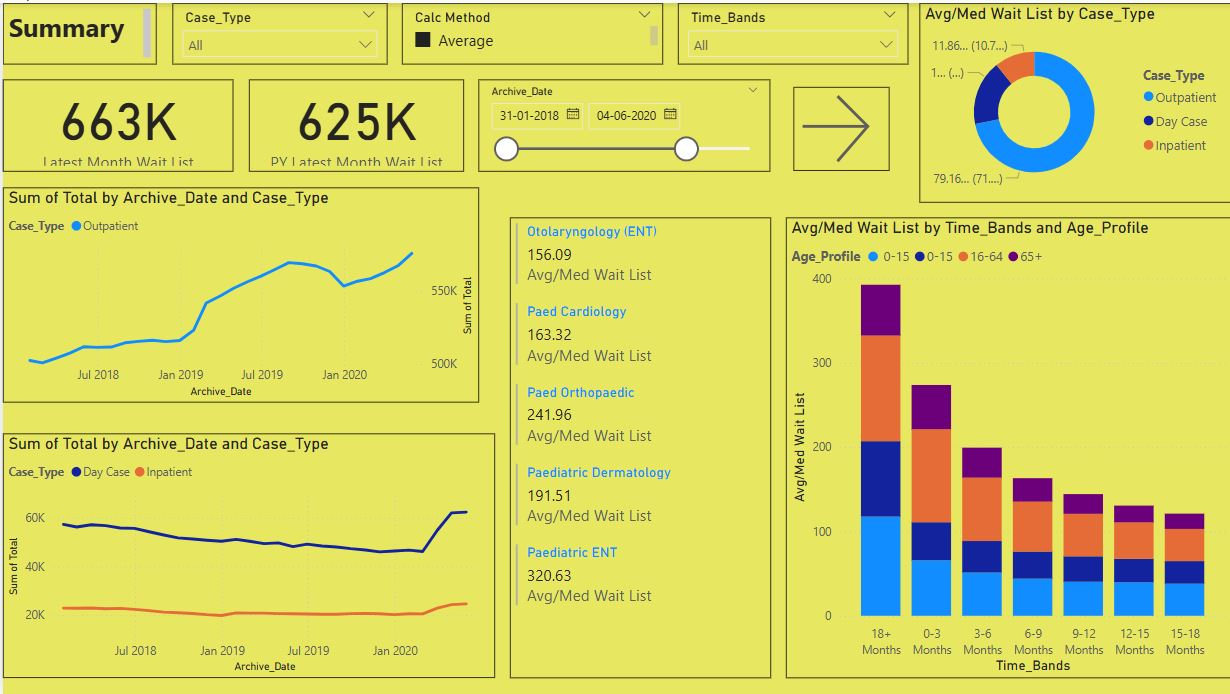

The dashboard page shown, as its layout file describes it:
{"tool":"powerbi","page":{"name":"Summary","canvas":[1280,720],"ordinal":0},"visuals":[{"type":"card","fields":{"Values":["All_Data.Latest Month Wait List"]},"box":[0,80,240,96],"z":0},{"type":"card","fields":{"Values":["All_Data.PY Latest Month Wait List"]},"box":[256,80,224,96],"z":1000},{"type":"slicer","fields":{"Values":["Table.Calc Method"]},"box":[416,0,272,64],"z":2000},{"type":"donutChart","fields":{"Category":["All_Data.Case_Type"],"Y":["All_Data.Avg/Med Wait List"]},"box":[955,0,325.1,207.9],"z":3000},{"type":"columnChart","fields":{"Category":["All_Data.Time_Bands"],"Y":["All_Data.Avg/Med Wait List"],"Series":["All_Data.Age_Profile"]},"box":[816,224,464,480],"z":4000},{"type":"multiRowCard","fields":{"Values":["All_Data.Speciality_Nzme","All_Data.Avg/Med Wait List"]},"box":[528,224,272,480],"z":5000},{"type":"lineChart","fields":{"Series":["All_Data.Case_Type"],"Category":["All_Data.Archive_Date"],"Y":["Sum(All_Data.Total)"]},"box":[0,448.6,512.7,254.8],"z":6000},{"type":"lineChart","fields":{"Y2":["Sum(All_Data.Total)"],"Series":["All_Data.Case_Type"],"Category":["All_Data.Archive_Date"]},"box":[0,192,496,224],"z":7000},{"type":"slicer","fields":{"Values":["All_Data.Archive_Date"]},"box":[496,80,304,96],"z":8000},{"type":"slicer","fields":{"Values":["All_Data.Case_Type"]},"box":[176,0,224,64],"z":9000},{"type":"slicer","fields":{"Values":["All_Data.Time_Bands"]},"box":[704,0,240,64],"z":10000},{"type":"textbox","box":[0,0,160,64],"z":11000},{"type":"actionButton","box":[823.7,87.5,100,87.5],"z":12000}]}

Visuals, with their boxes in screenshot pixels (x1, y1, x2, y2), scaled from the page's 1280x720 canvas onto the 1230x694 screenshot:
card - All_Data.Latest Month Wait List: [x1=0, y1=77, x2=231, y2=170]
card - All_Data.PY Latest Month Wait List: [x1=246, y1=77, x2=461, y2=170]
slicer - Table.Calc Method: [x1=400, y1=0, x2=661, y2=62]
donutChart - All_Data.Case_Type x All_Data.Avg/Med Wait List: [x1=918, y1=0, x2=1229, y2=200]
columnChart - All_Data.Time_Bands x All_Data.Avg/Med Wait List: [x1=784, y1=216, x2=1229, y2=679]
multiRowCard - All_Data.Speciality_Nzme x All_Data.Avg/Med Wait List: [x1=507, y1=216, x2=769, y2=679]
lineChart - All_Data.Case_Type x All_Data.Archive_Date: [x1=0, y1=432, x2=493, y2=678]
lineChart - Sum(All_Data.Total) x All_Data.Case_Type: [x1=0, y1=185, x2=477, y2=401]
slicer - All_Data.Archive_Date: [x1=477, y1=77, x2=769, y2=170]
slicer - All_Data.Case_Type: [x1=169, y1=0, x2=384, y2=62]
slicer - All_Data.Time_Bands: [x1=676, y1=0, x2=907, y2=62]
textbox: [x1=0, y1=0, x2=154, y2=62]
actionButton: [x1=792, y1=84, x2=888, y2=169]
